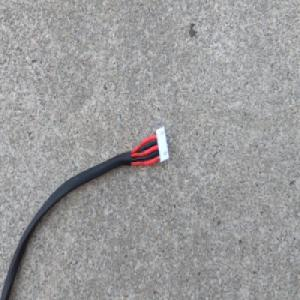Wire: (0, 124, 170, 300)
